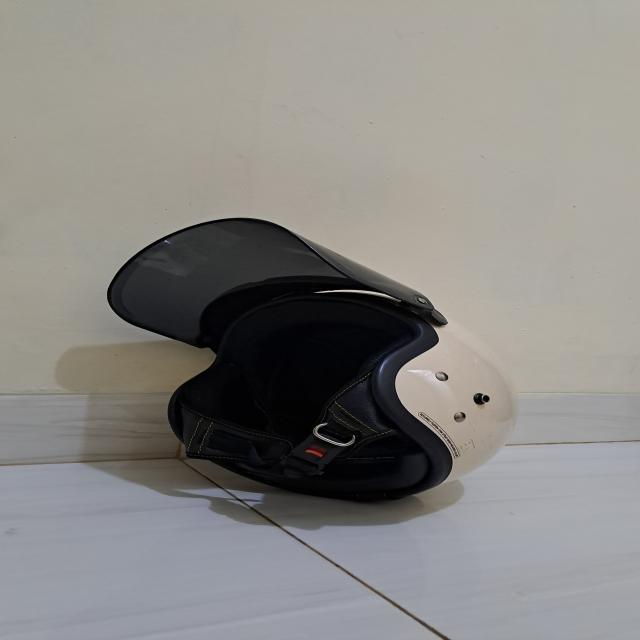Helm: (101, 208, 518, 510)
